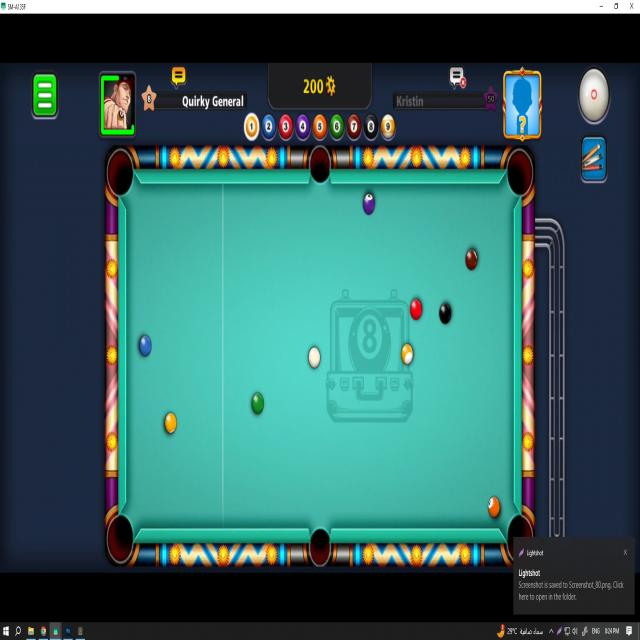object_ball: (252, 393, 264, 414), (363, 193, 374, 215), (140, 335, 151, 356), (440, 303, 451, 324), (466, 249, 477, 270), (401, 344, 412, 365), (488, 497, 499, 517), (165, 413, 176, 433), (410, 299, 421, 319)
white_cue_ball: (309, 347, 320, 368)
